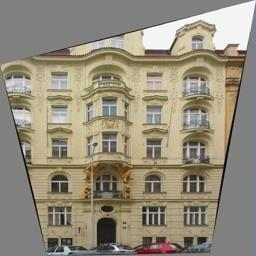building: (0, 10, 226, 247)
